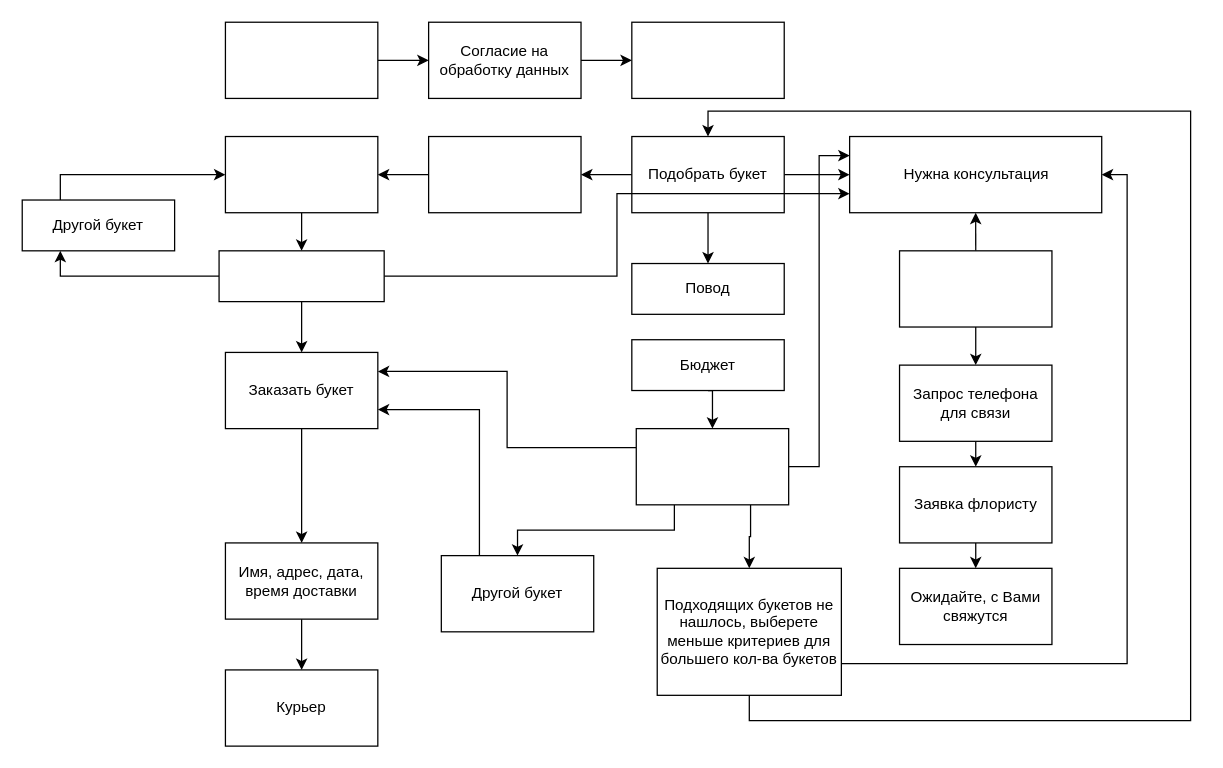
This 1223x768 diagram has some shape labels left out. Here are the shapes that lost their labels. From the top down, the box of each, then its label:
(224, 21, 378, 98): /start
(631, 21, 784, 98): приветствие
(224, 135, 378, 213): Список букетов
(427, 135, 581, 213): Посмотреть весь каталог
(218, 250, 384, 302): Карточка букета
(898, 250, 1052, 327): Консультация флориста
(635, 427, 789, 505): Показ букета - фото, смысл, состав, цена
